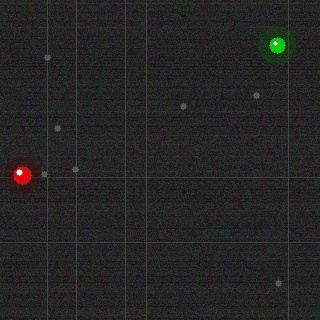green_normal: (267, 35, 287, 55)
red_fault: (11, 164, 33, 186)
